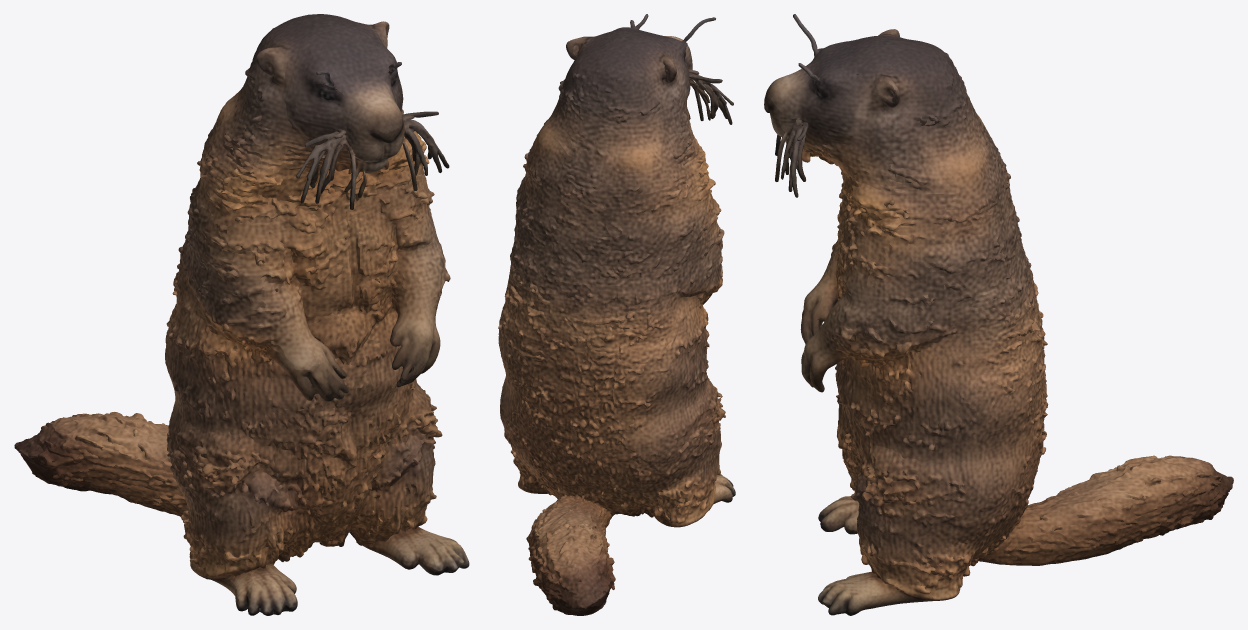
Rendered from mystery-4900726.glb.
3 renders of one model, left to right at view 1: azimuth 30°, elevation 25°; view 2: azimuth 150°, elevation 25°; view 3: azimuth 270°, elevation 25°, orthographic. The views are drawn at different scales.
Visible parts, largest first — view 1: world; view 2: world; view 3: world.
Part boxes in pixels (x1,y1,x2,y2): world: [14, 14, 469, 615]; world: [498, 14, 735, 615]; world: [764, 14, 1233, 615].
Size of the model in its own units: 0.2405 by 0.5 by 0.4066.
1 material, 1 textured.
